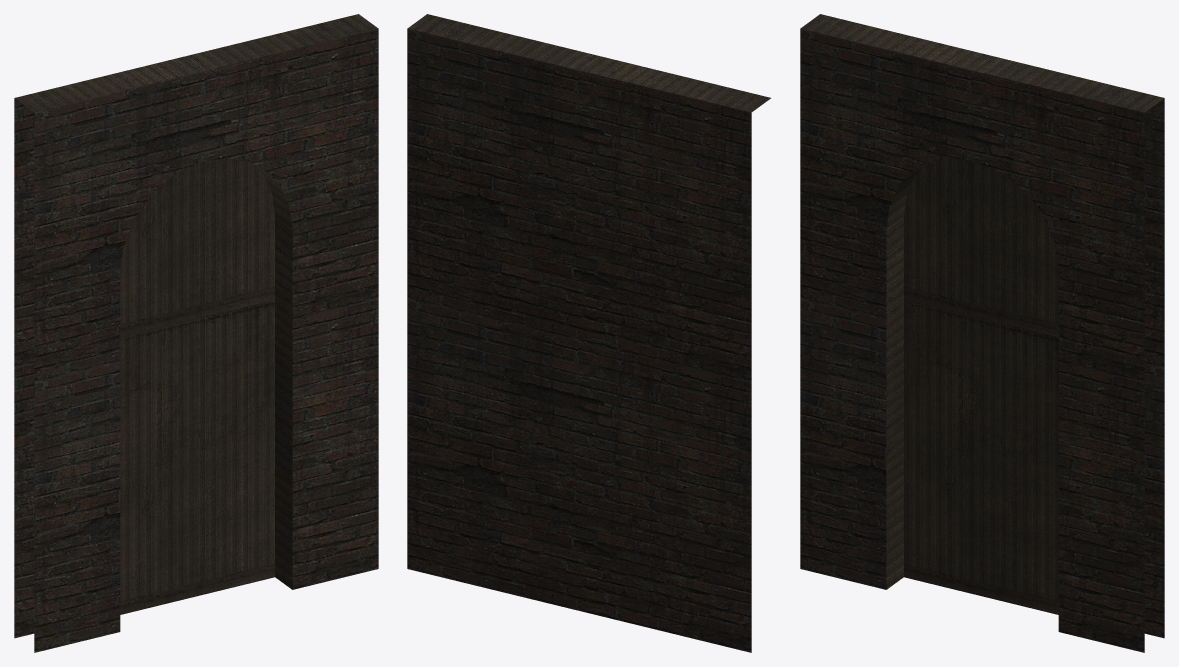
Rendered from wall_hs_15_double.obj.
The picture shows the model from 3 angles, left to right: view 1: azimuth 30°, elevation 25°; view 2: azimuth 150°, elevation 25°; view 3: azimuth 330°, elevation 25°; orthographic projection.
Parts seen in each view (by area): view 1: wall_hs_15_double; view 2: wall_hs_15_double; view 3: wall_hs_15_double.
Part boxes in pixels (bbox=[...]): wall_hs_15_double: bbox=[14, 14, 378, 652]; wall_hs_15_double: bbox=[407, 14, 770, 652]; wall_hs_15_double: bbox=[800, 14, 1164, 652].
Bounding box in the file's own units: 4 × 6 × 0.4.
